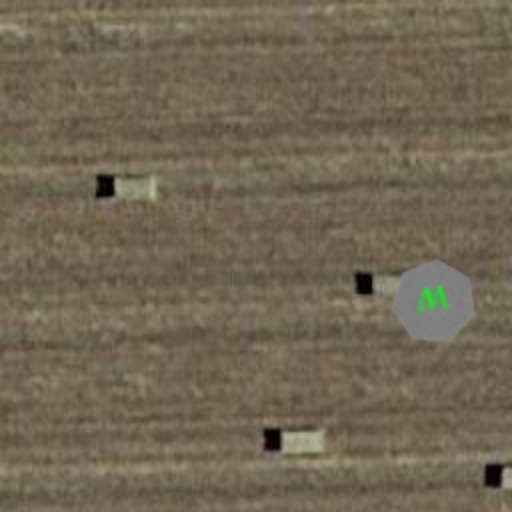heptagon: (384, 252, 484, 352)
